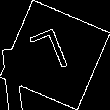L_S: (31, 26, 79, 84)
